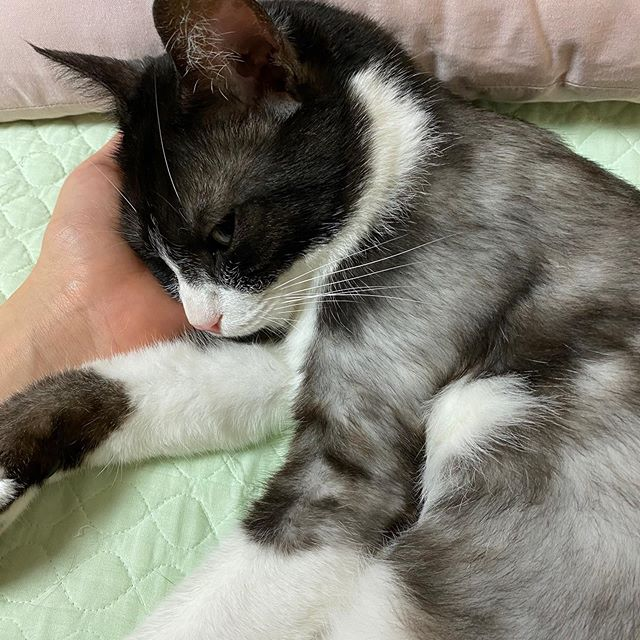cat: (54, 1, 412, 358)
